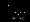person: (11, 8, 20, 19), (21, 12, 28, 20)
